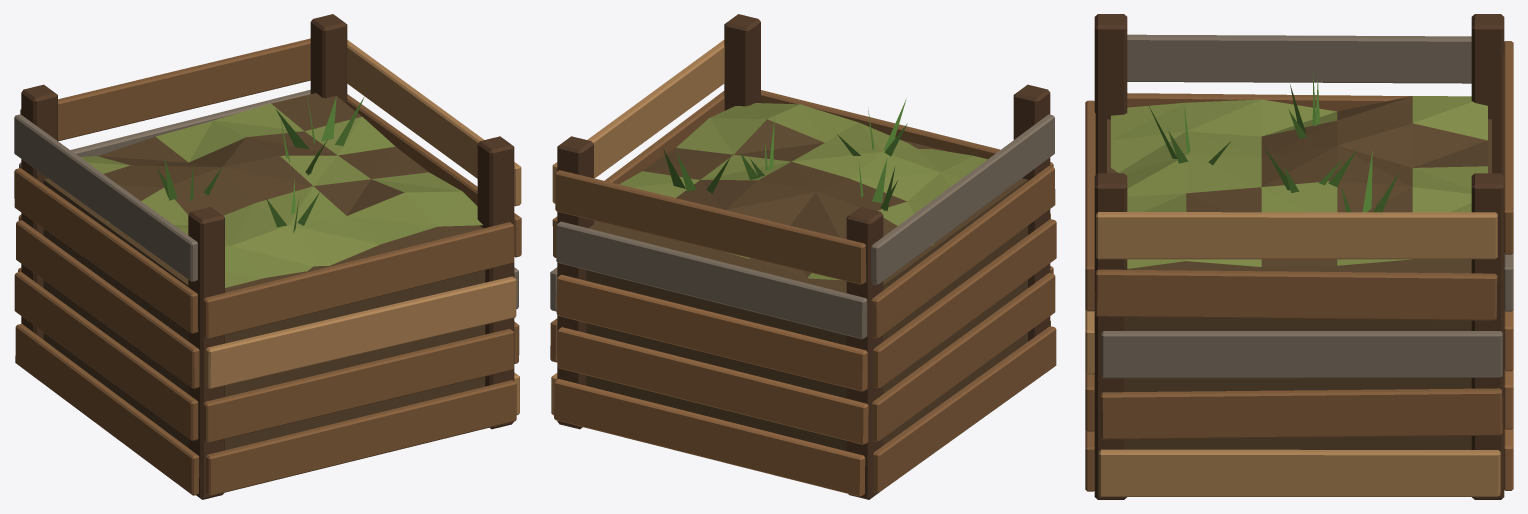
The model's file is CompostBin.fbx.
The picture shows the model from 3 angles, left to right: view 1: azimuth 30°, elevation 25°; view 2: azimuth 150°, elevation 25°; view 3: azimuth 270°, elevation 25°; orthographic projection. The views are drawn at different scales.
Parts seen in each view (by area): view 1: CompostBin; view 2: CompostBin; view 3: CompostBin.
Part boxes in pixels (bbox=[...]): CompostBin: bbox=[14, 14, 521, 499]; CompostBin: bbox=[550, 14, 1056, 499]; CompostBin: bbox=[1085, 14, 1513, 499].
Size of the model in its own units: 1.04 by 0.85 by 1.05.
1 material, 1 textured.
